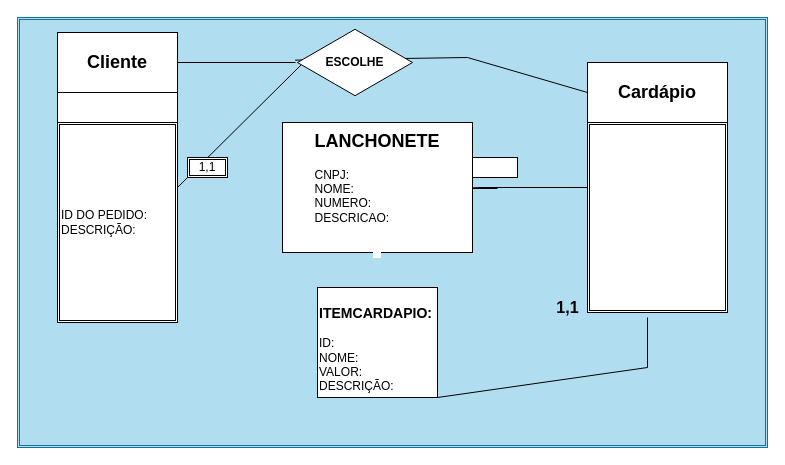
Image size: 785x465. Some labels were removed from this diagram. The shapes that lost their labels are listed below. From the top down, each one's centre as x and y in pixels, then its label:
At (x=117, y=107): "STATUSPEDIDO".
At (x=495, y=167): "1,n".
At (x=657, y=217): "ID: DESCRIÇÃO: NUMEROLANCHONETE:".
